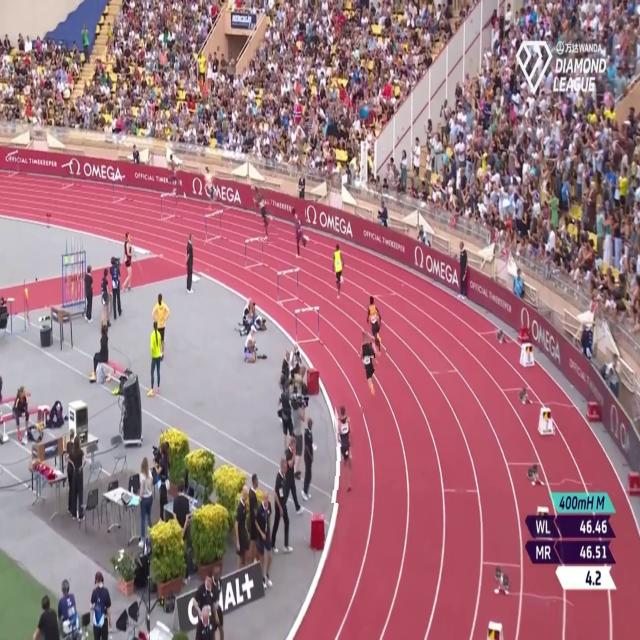athlete: (331, 405, 362, 504), (359, 329, 379, 407), (253, 182, 277, 244), (364, 290, 385, 358), (291, 206, 308, 270), (168, 152, 187, 205), (204, 162, 222, 216), (330, 233, 344, 299)
